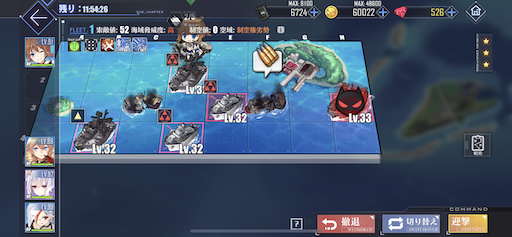boss: (327, 84, 371, 122)
lv1: (70, 107, 115, 154)
lv3: (157, 109, 204, 153), (203, 79, 247, 123), (167, 54, 205, 92)
